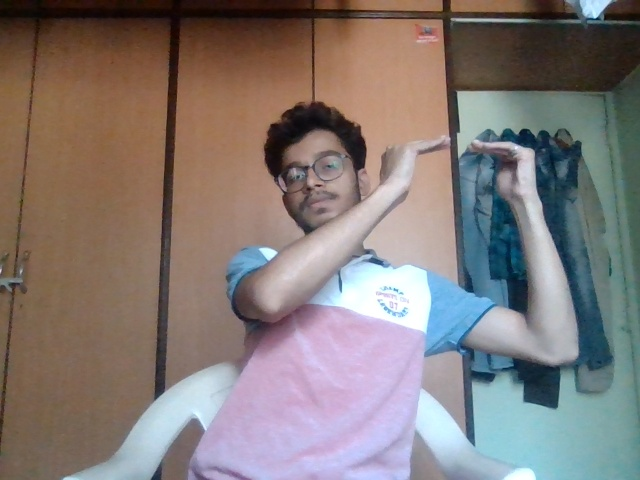afternoon: (372, 125, 565, 252)
